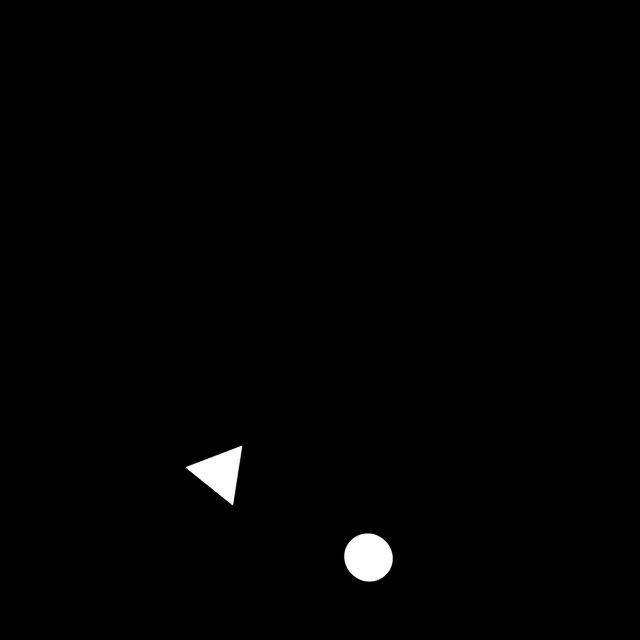Circle: (337, 526, 398, 594)
Triangle: (174, 438, 254, 518)
